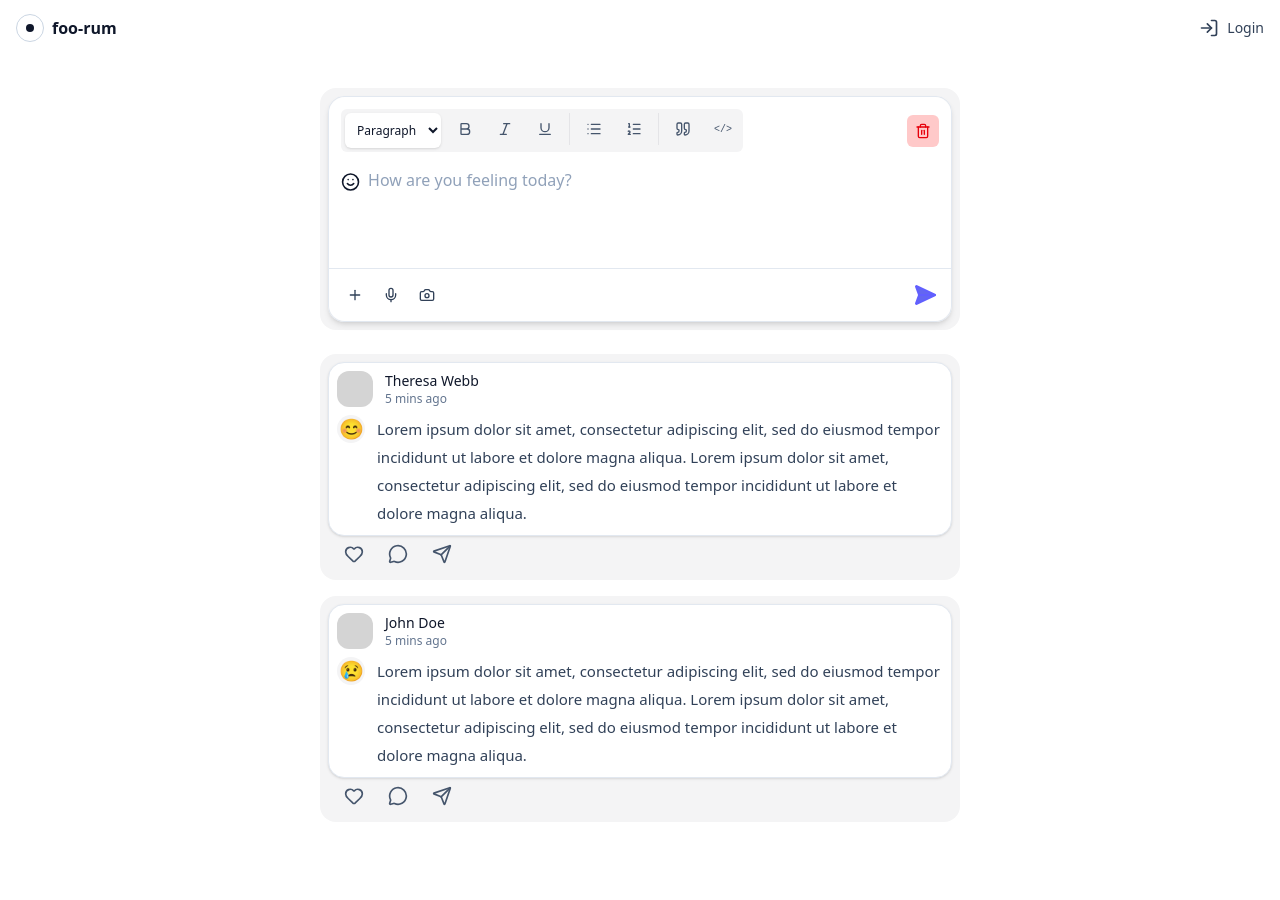
Scenario: FeedPage › opens auth modal when unauthenticated user publishes
Click the button named "Publish" at (925, 295), box x1=907 y1=277 x2=943 y2=313
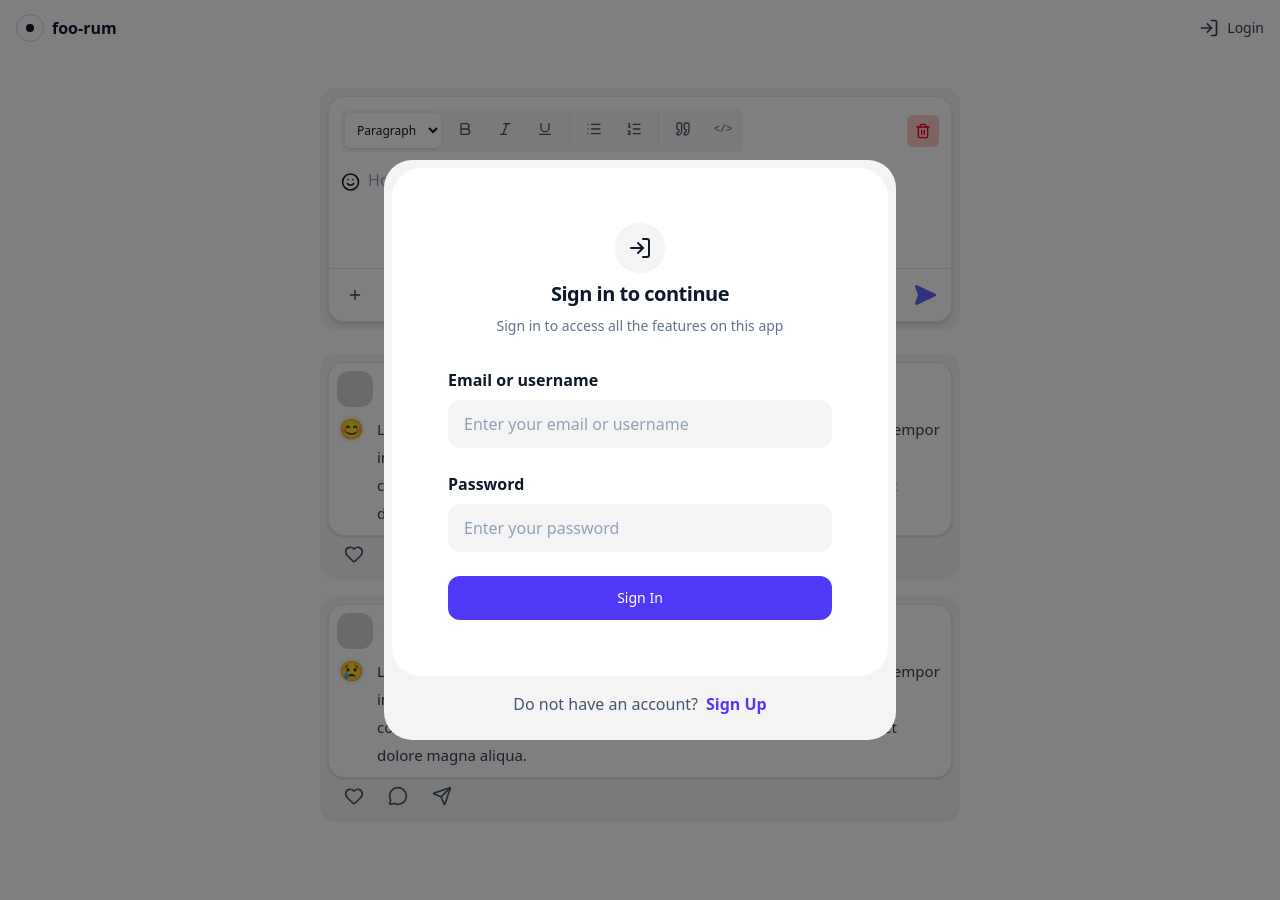
expect the heading "Sign in to continue" is shown: met, box x1=551 y1=280 x2=729 y2=307
